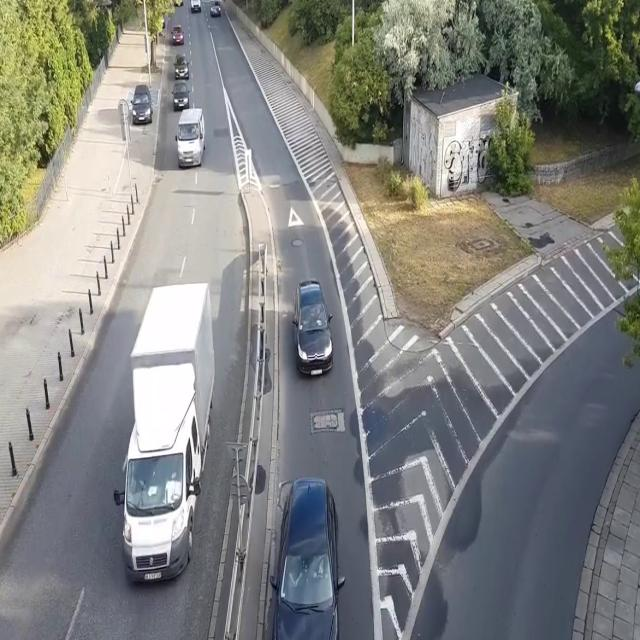car: (267, 474, 345, 640), (292, 280, 334, 378), (130, 84, 153, 125), (171, 80, 190, 110), (173, 54, 189, 80), (170, 24, 184, 46), (210, 0, 221, 18)
truck: (113, 283, 217, 587)
van: (174, 107, 207, 170), (189, 0, 202, 13)
